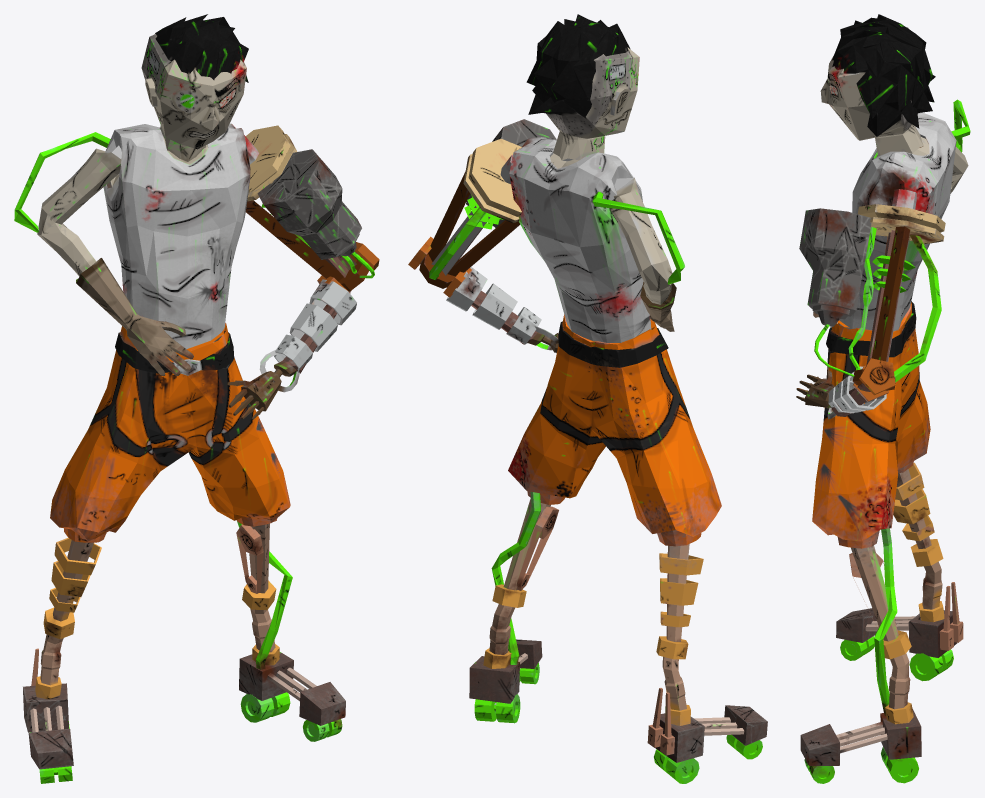
The model's file is CyborgFINALAnimation_000034.obj.
The picture shows the model from 3 angles, left to right: view 1: azimuth 30°, elevation 25°; view 2: azimuth 150°, elevation 25°; view 3: azimuth 270°, elevation 25°; orthographic projection. The views are drawn at different scales.
Visible parts, largest first — view 1: CyborgMesh_Cube.002; view 2: CyborgMesh_Cube.002; view 3: CyborgMesh_Cube.002.
Boxes of the visible parts, x1,y1,x2,y2 form: CyborgMesh_Cube.002: [14, 14, 379, 783]; CyborgMesh_Cube.002: [408, 14, 767, 783]; CyborgMesh_Cube.002: [796, 14, 970, 783].
Size of the model in its own units: 4.87 by 9.61 by 2.12.
